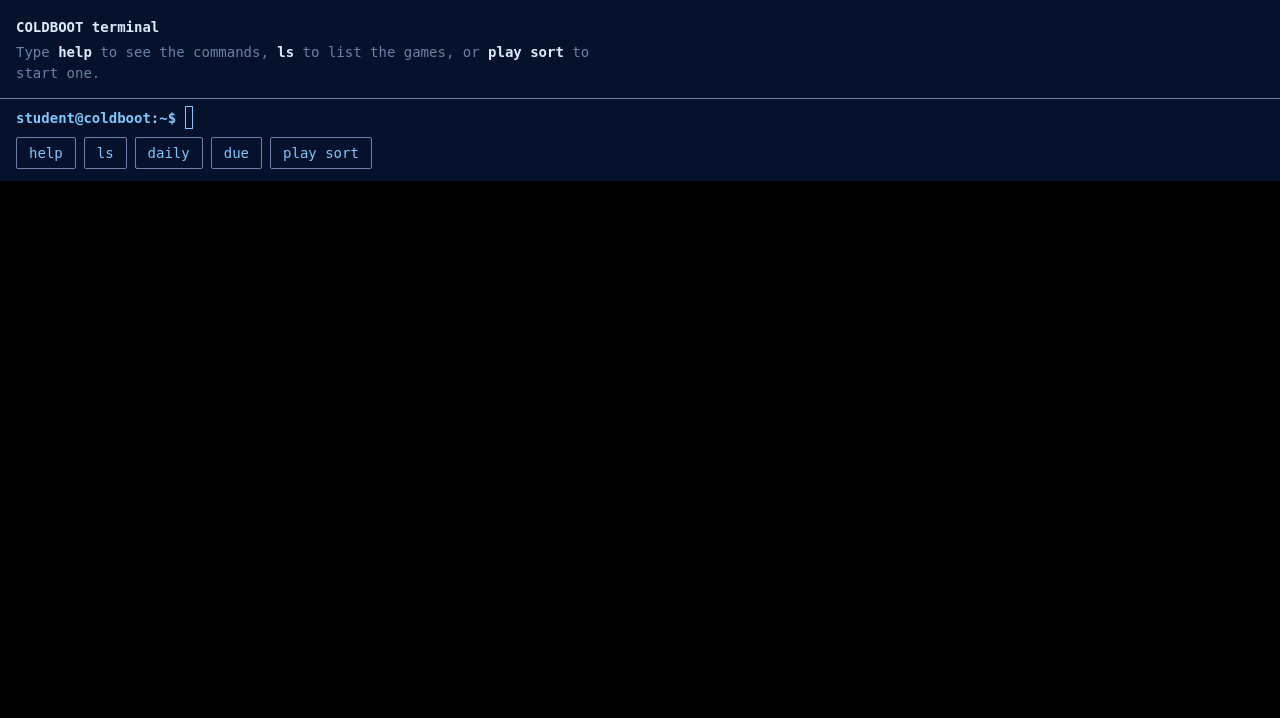
it: dfd in the terminal › plays a question: a marked diagram, then feedback that is recorded
Type "play dfd" into the field labelled "student@coldboot:~$" at point(724, 118), box [185,106,1264,129]
Then press Enter
(page scrolled)
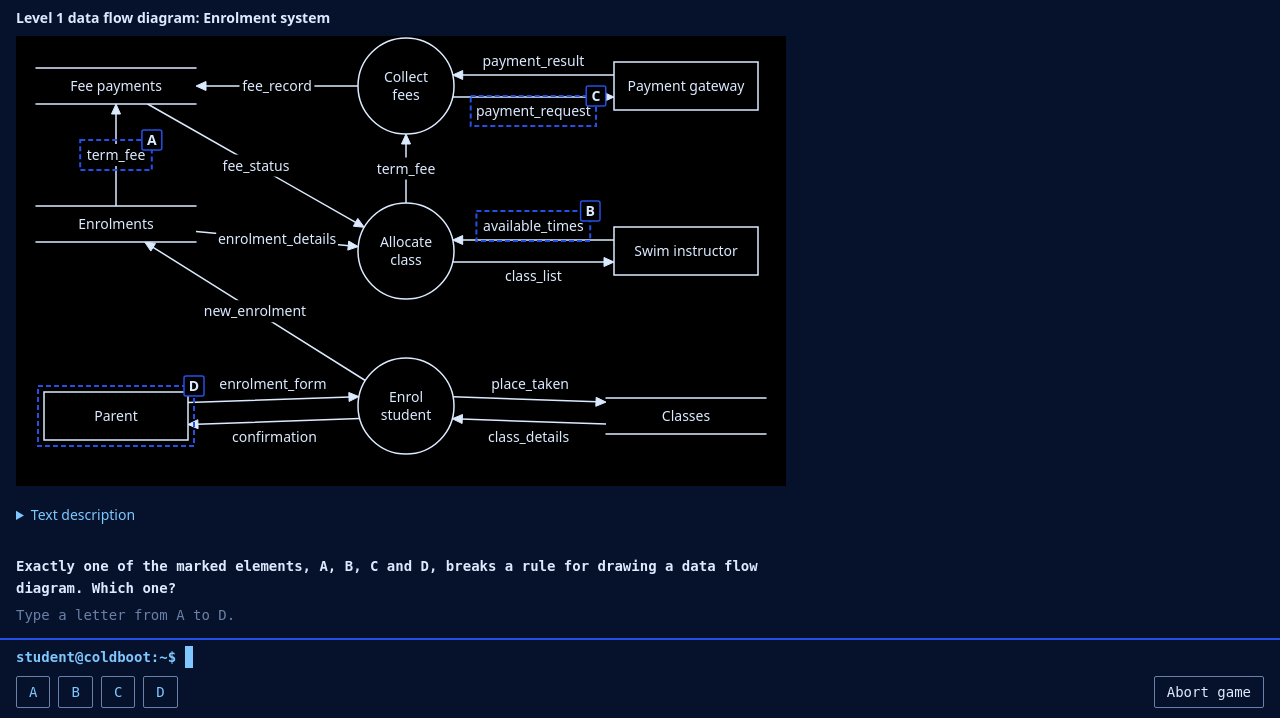
Expected: the element named "Level 1 data flow diagram: Enrolment system" is shown, [16,8,786,524]
Type "maybe" into the field labelled "student@coldboot:~$" at point(724, 657), box [185,646,1264,668]
Then press Enter
(page scrolled)
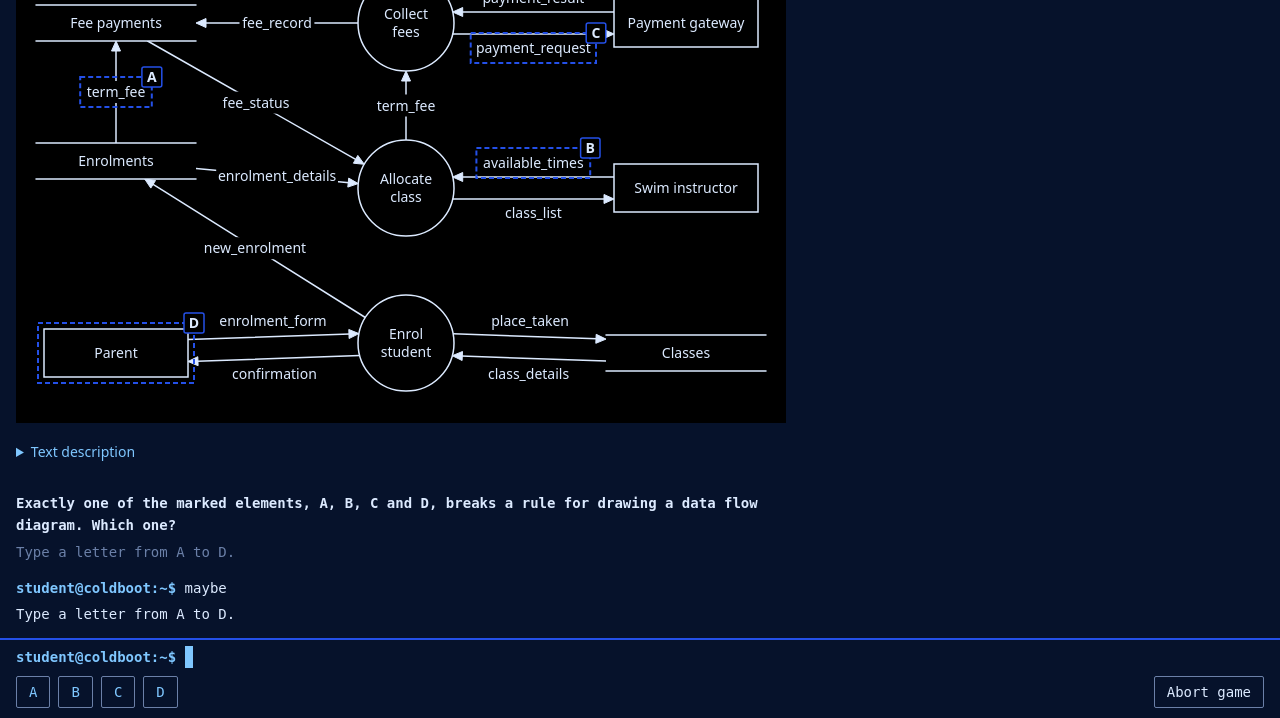
Type "A" into the field labelled "student@coldboot:~$" at point(724, 657), box [185,646,1264,668]
Then press Enter
(page scrolled)
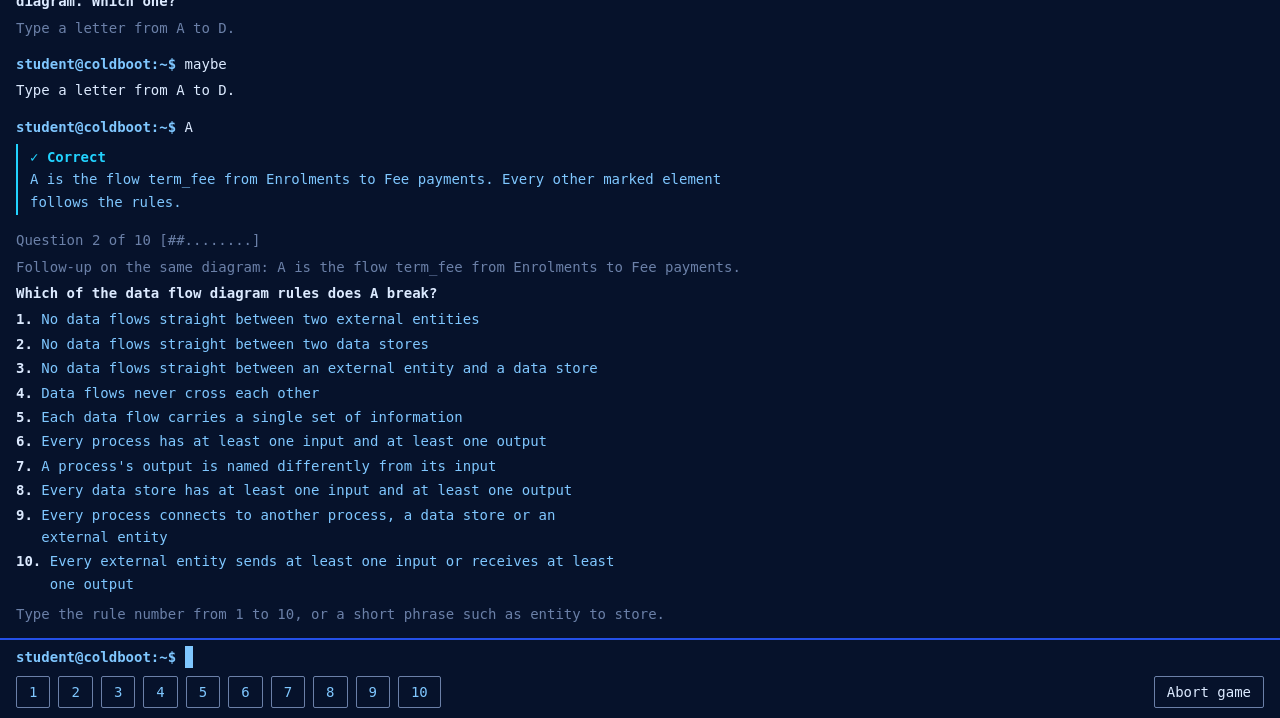
Expected: the text "Correct" is shown, [47,149,106,165]
Type "1" into the field labelled "student@coldboot:~$" at point(724, 657), box [185,646,1264,668]
Then press Enter
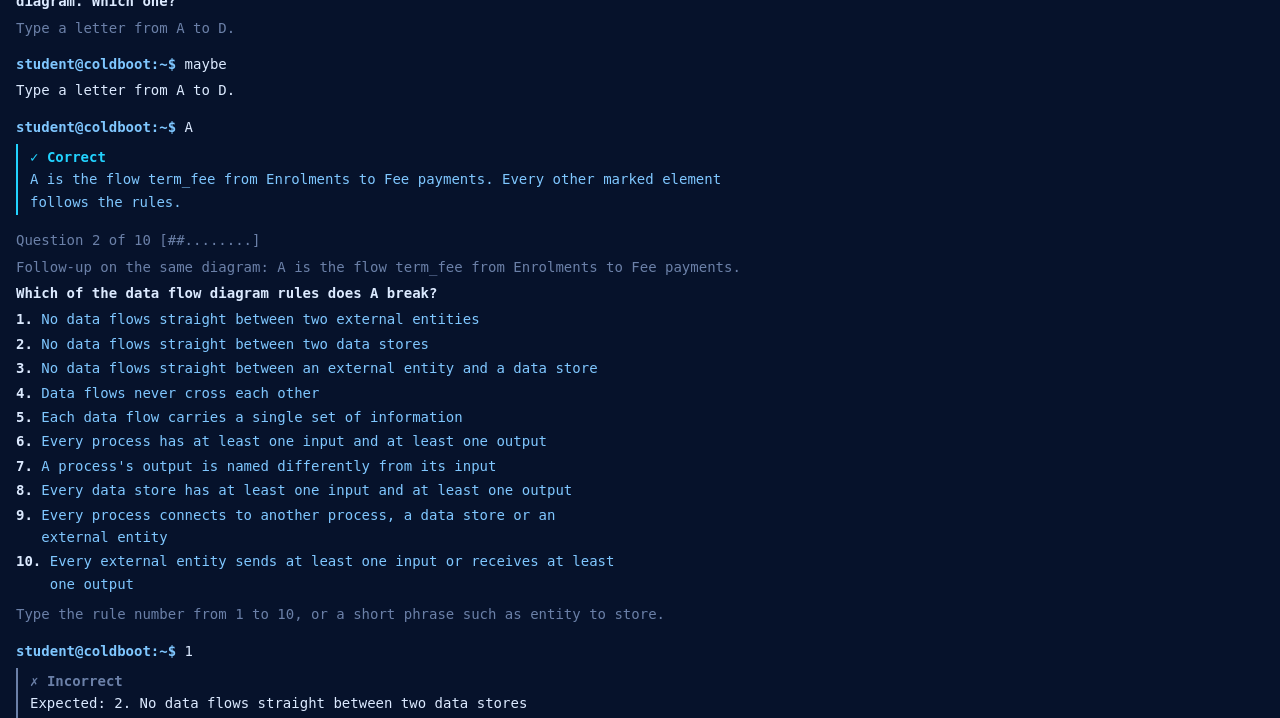
Expected: the text "Incorrect" is shown, [47,673,123,689]
